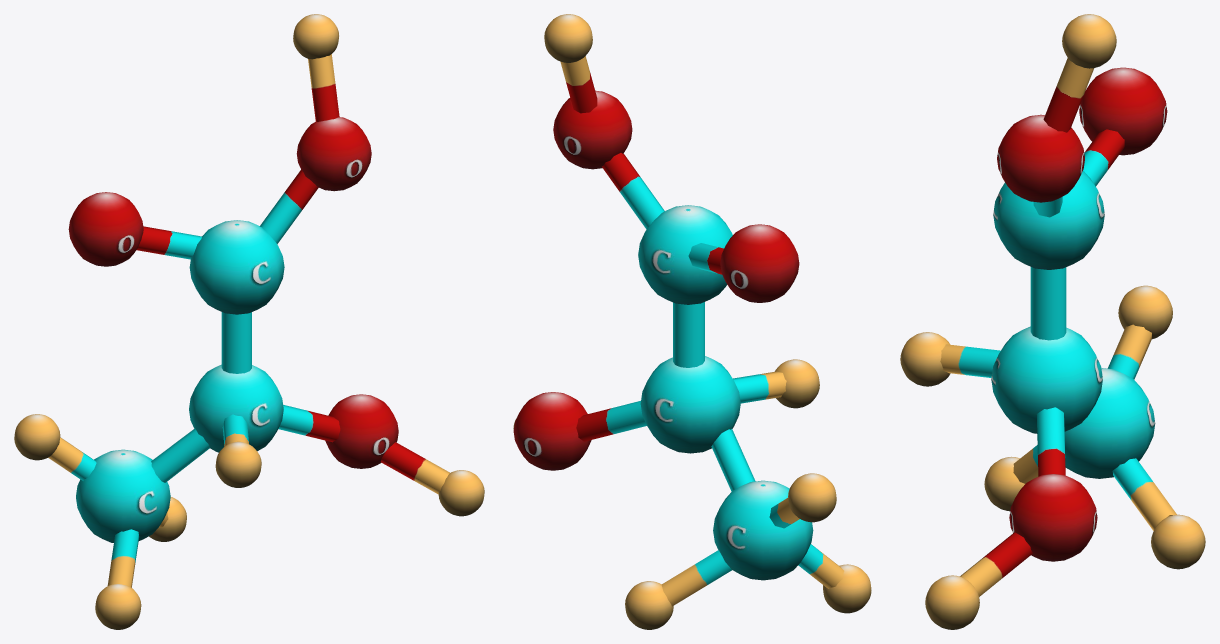
File: LacticAcid.dae
3 renders of one model, left to right at view 1: azimuth 30°, elevation 25°; view 2: azimuth 150°, elevation 25°; view 3: azimuth 270°, elevation 25°, orthographic. The views are drawn at different scales.
Parts seen in each view (by area): view 1: polySurface113; view 2: polySurface113; view 3: polySurface113.
Part boxes in pixels (x1,y1,x2,y2): polySurface113: [14, 14, 484, 629]; polySurface113: [513, 14, 871, 629]; polySurface113: [900, 14, 1205, 629].
Bounding box in the file's own units: 15.23 × 20.22 × 8.95.
Materials: 1 (1 with a texture image).
